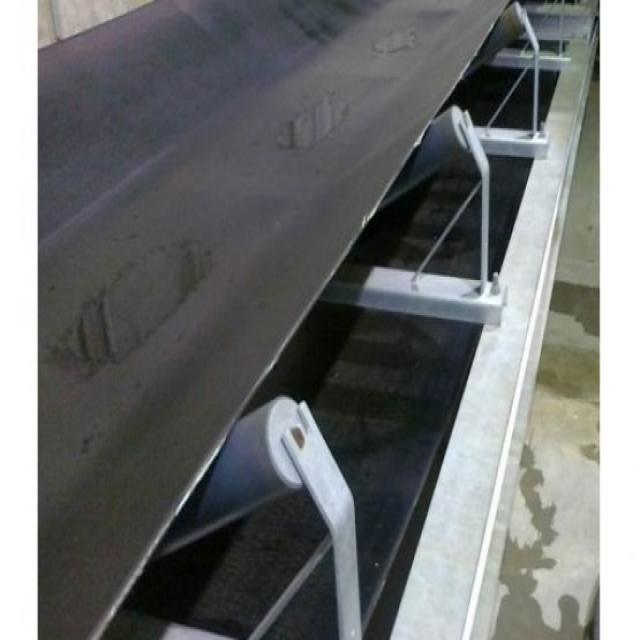conveyor: (29, 3, 598, 640)
